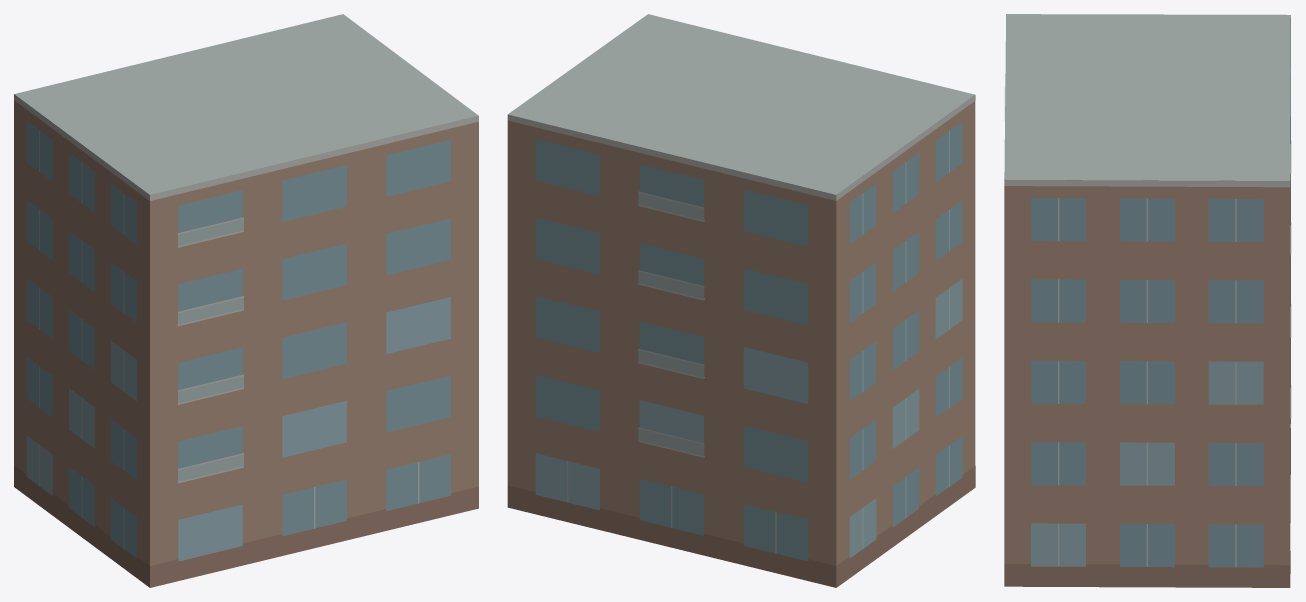
File: survey-upis-32931409.glb
The picture shows the model from 3 angles, left to right: view 1: azimuth 30°, elevation 25°; view 2: azimuth 150°, elevation 25°; view 3: azimuth 270°, elevation 25°; orthographic projection. The views are drawn at different scales.
Visible parts, largest first — view 1: survey-upis-32931409.tmp; view 2: survey-upis-32931409.tmp; view 3: survey-upis-32931409.tmp.
Boxes of the visible parts, x1,y1,x2,y2 form: survey-upis-32931409.tmp: [14, 14, 478, 587]; survey-upis-32931409.tmp: [507, 14, 975, 587]; survey-upis-32931409.tmp: [1004, 14, 1291, 587].
Size of the model in its own units: 14.01 by 15.9 by 10.18.
